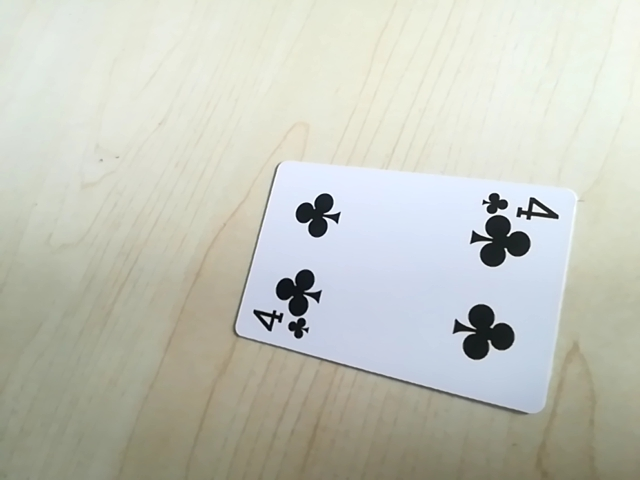mh 4: (481, 190, 557, 221), (246, 306, 314, 340)
